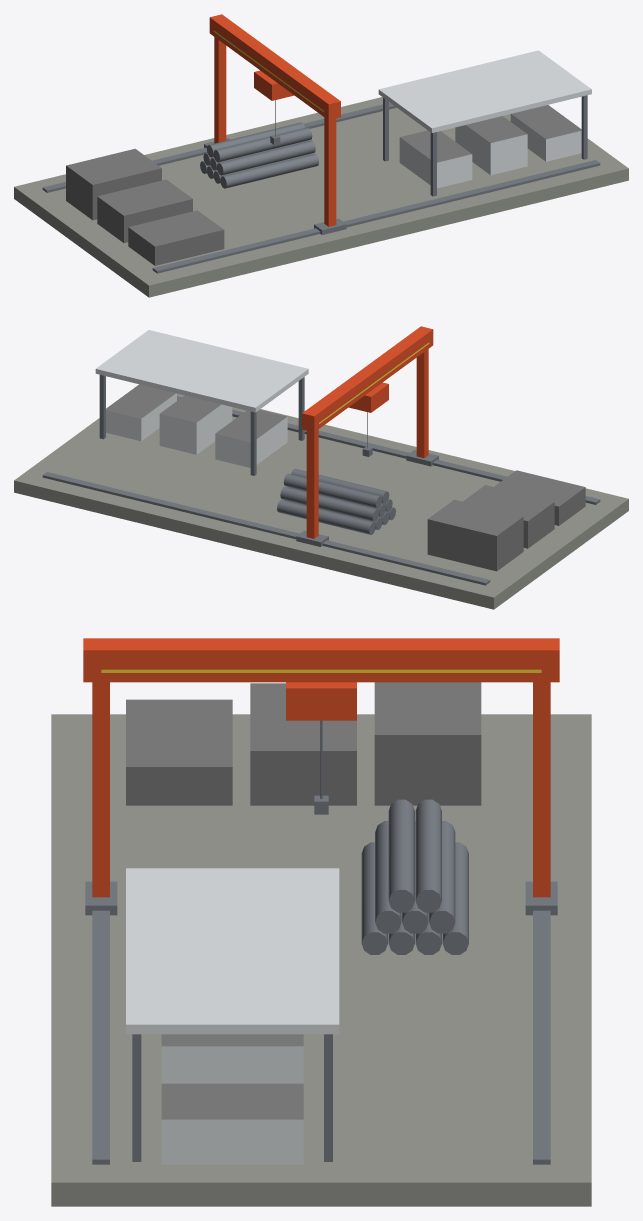
File: mashup-steel-top-prebuilt_close.fbx
3 renders of one model, top to bottom at view 1: azimuth 30°, elevation 25°; view 2: azimuth 150°, elevation 25°; view 3: azimuth 270°, elevation 25°, orthographic. The views are drawn at different scales.
Visible parts, largest first — view 1: a1082/0/mashup-steel-top-prebuilt_close; view 2: a1082/0/mashup-steel-top-prebuilt_close; view 3: a1082/0/mashup-steel-top-prebuilt_close.
Boxes of the visible parts, x1,y1,x2,y2 form: a1082/0/mashup-steel-top-prebuilt_close: (14,14,628,297); a1082/0/mashup-steel-top-prebuilt_close: (14,326,628,609); a1082/0/mashup-steel-top-prebuilt_close: (51,638,591,1206).
Size of the model in its own units: 31.2 by 8.8 by 15.2.
